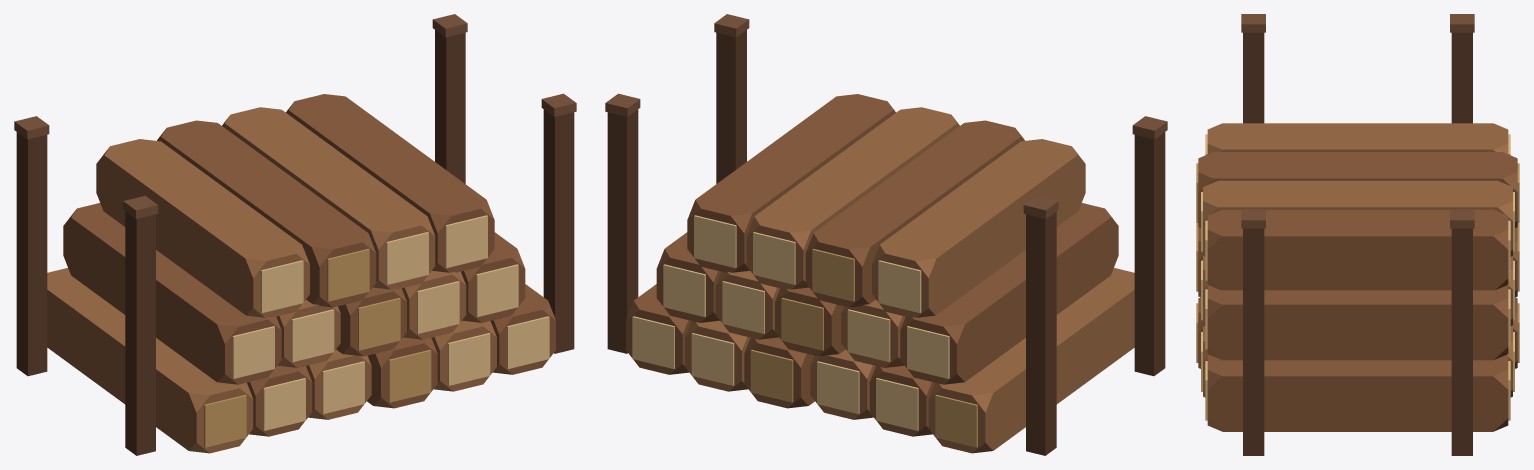
The model's file is woodpile-pixor-blocky.glb.
3 renders of one model, left to right at view 1: azimuth 30°, elevation 25°; view 2: azimuth 150°, elevation 25°; view 3: azimuth 270°, elevation 25°, orthographic. The views are drawn at different scales.
Visible parts, largest first — view 1: Woodpile logs, Woodpile stakes; view 2: Woodpile logs, Woodpile stakes; view 3: Woodpile logs, Woodpile stakes.
Part boxes in pixels (box(x1,y1,x2,y2)): Woodpile logs: box(47, 94, 555, 453); Woodpile stakes: box(14, 14, 576, 455); Woodpile logs: box(626, 94, 1134, 453); Woodpile stakes: box(605, 14, 1167, 455); Woodpile logs: box(1196, 123, 1519, 431); Woodpile stakes: box(1241, 14, 1474, 455).
Bounding box in the file's own units: 1.59 × 0.8501 × 1.05.
1 material, 1 textured.
